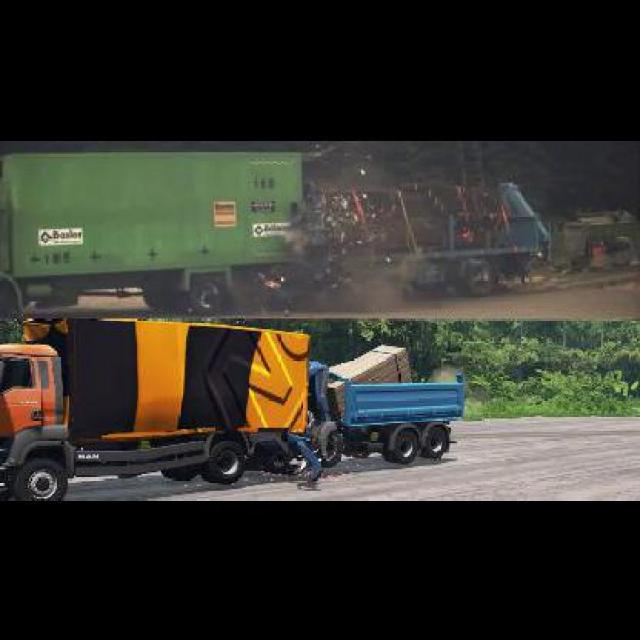accident: (0, 307, 472, 500), (0, 145, 557, 307)
